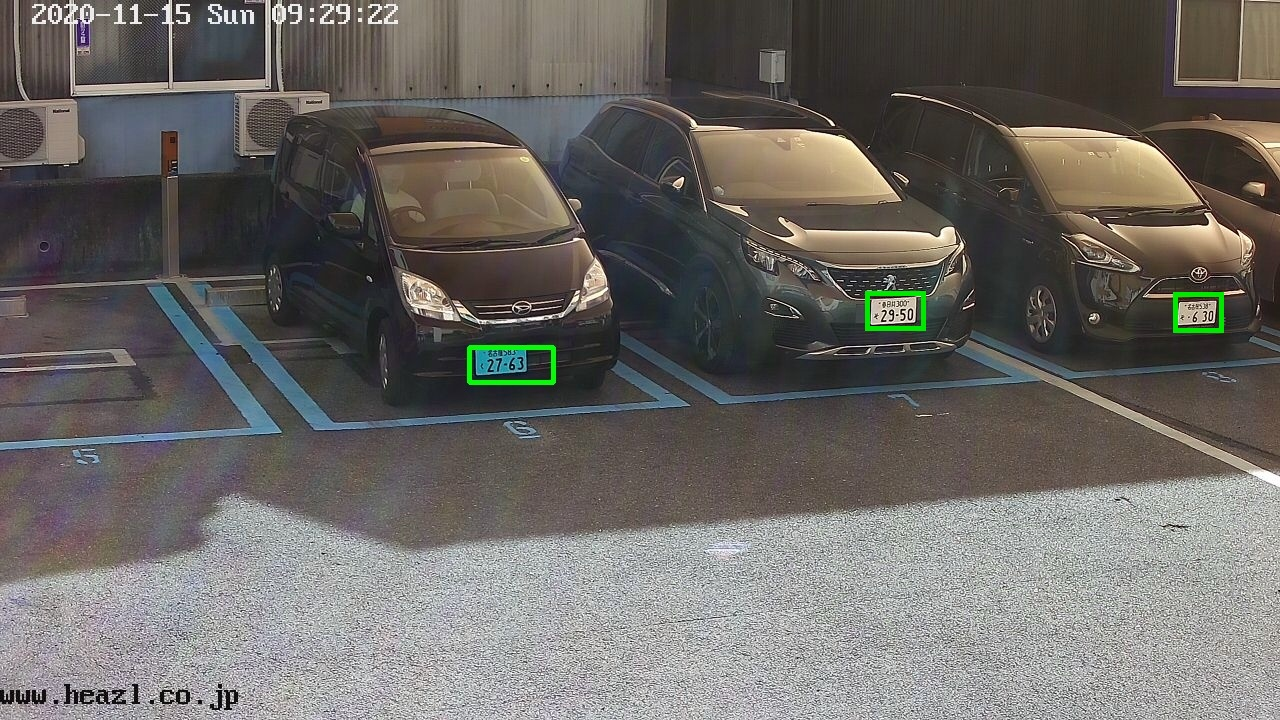number_plate: (474, 342, 529, 375), (870, 297, 917, 322), (1179, 300, 1216, 325)
